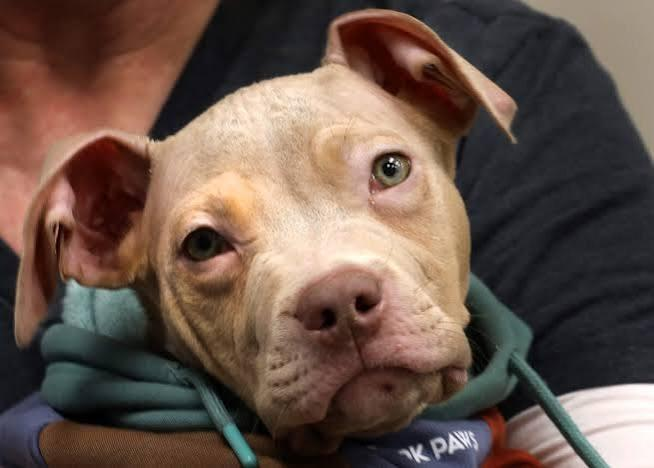puppy-dog: (13, 9, 519, 441)
